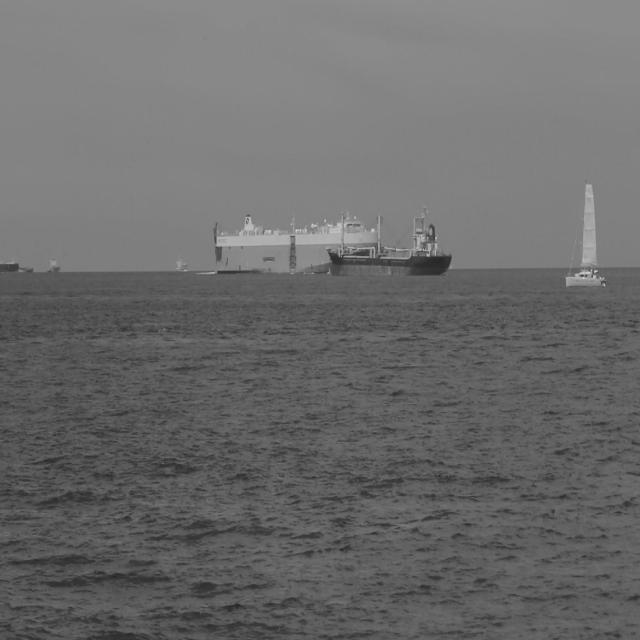ship: (211, 208, 381, 275), (324, 200, 453, 278), (564, 178, 606, 288), (0, 256, 20, 274), (46, 252, 60, 274), (16, 263, 34, 274)
